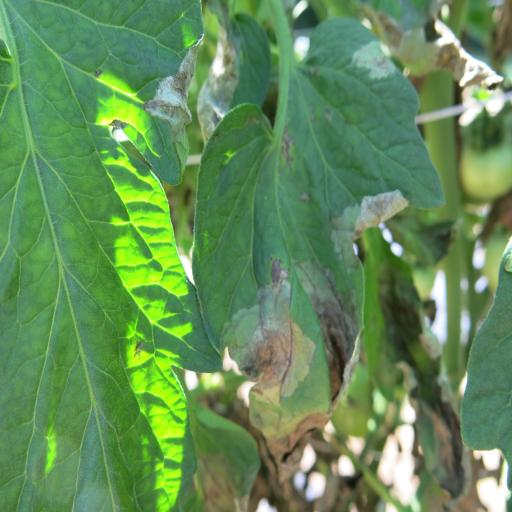Late Blight: (191, 17, 449, 485)
